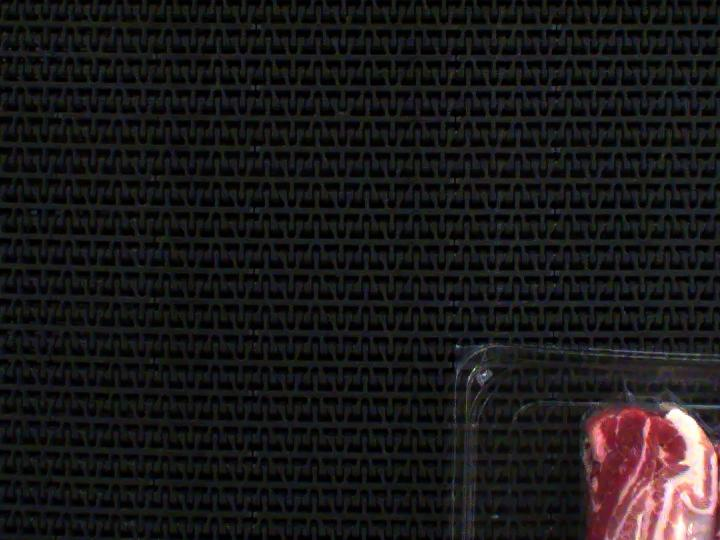packaging-error: (591, 357, 686, 415)
unsealed: (563, 385, 720, 448)
